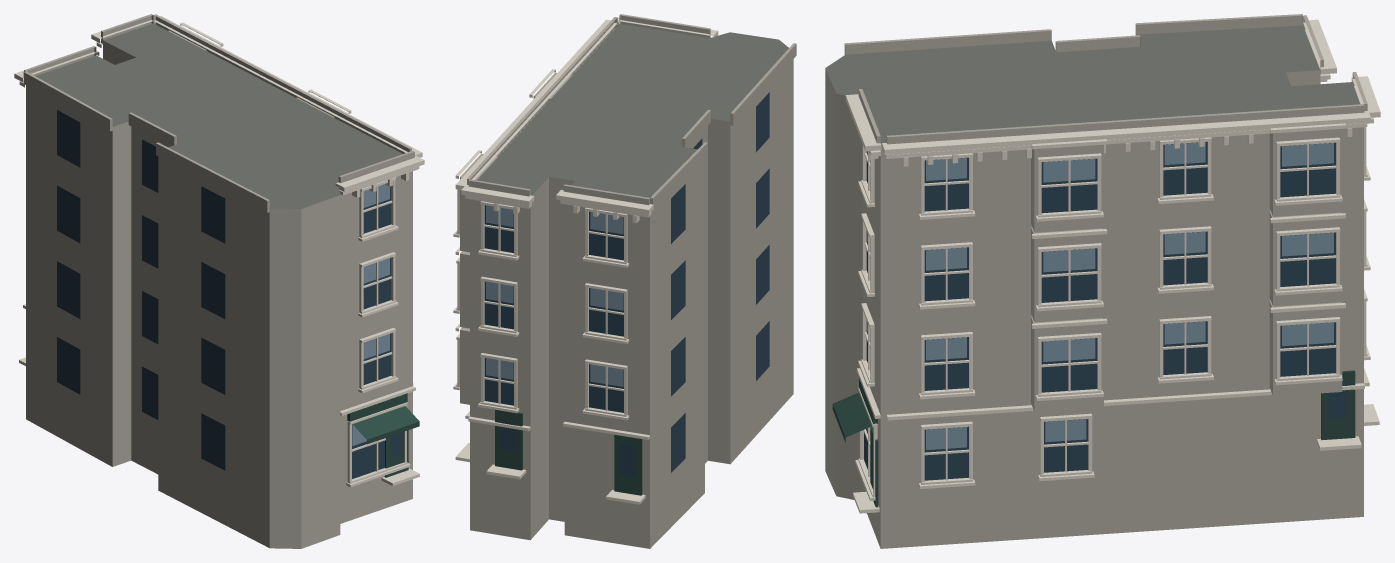
3 views of the same model, side by side, from view 1: azimuth 30°, elevation 25°; view 2: azimuth 150°, elevation 25°; view 3: azimuth 270°, elevation 25° (orthographic). The views are drawn at different scales.
Visible parts, largest first — view 1: Footprint 0 / surface 2, Footprint 0 / surface 1, Inset glazing, Cornices and window frames, Facade bay volumes, Storefronts and doors, Sky reflection panels; view 2: Footprint 0 / surface 2, Footprint 0 / surface 1, Cornices and window frames, Inset glazing, Facade bay volumes, Sky reflection panels, Storefronts and doors; view 3: Footprint 0 / surface 2, Cornices and window frames, Footprint 0 / surface 1, Facade bay volumes, Inset glazing, Sky reflection panels, Storefronts and doors.
Part boxes in pixels (x1,y1,x2,y2): Footprint 0 / surface 2: (26, 40, 412, 548); Footprint 0 / surface 1: (36, 23, 402, 208); Inset glazing: (57, 110, 403, 478); Cornices and window frames: (14, 16, 424, 487); Facade bay volumes: (23, 14, 414, 212); Storefronts and doors: (347, 393, 419, 477); Sky reflection panels: (352, 184, 389, 445); Footprint 0 / surface 2: (470, 59, 793, 548); Footprint 0 / surface 1: (477, 23, 788, 197); Cornices and window frames: (453, 17, 718, 504); Inset glazing: (484, 92, 769, 476); Facade bay volumes: (460, 14, 796, 404); Sky reflection panels: (486, 205, 623, 386); Storefronts and doors: (495, 409, 642, 495); Footprint 0 / surface 2: (825, 45, 1363, 548); Cornices and window frames: (845, 19, 1380, 513); Footprint 0 / surface 1: (825, 25, 1360, 145); Facade bay volumes: (844, 14, 1367, 412); Inset glazing: (864, 141, 1348, 480); Sky reflection panels: (867, 142, 1333, 449); Storefronts and doors: (832, 370, 1355, 507).
Size of the model in its own units: 9.88 by 14.6 by 17.8.
